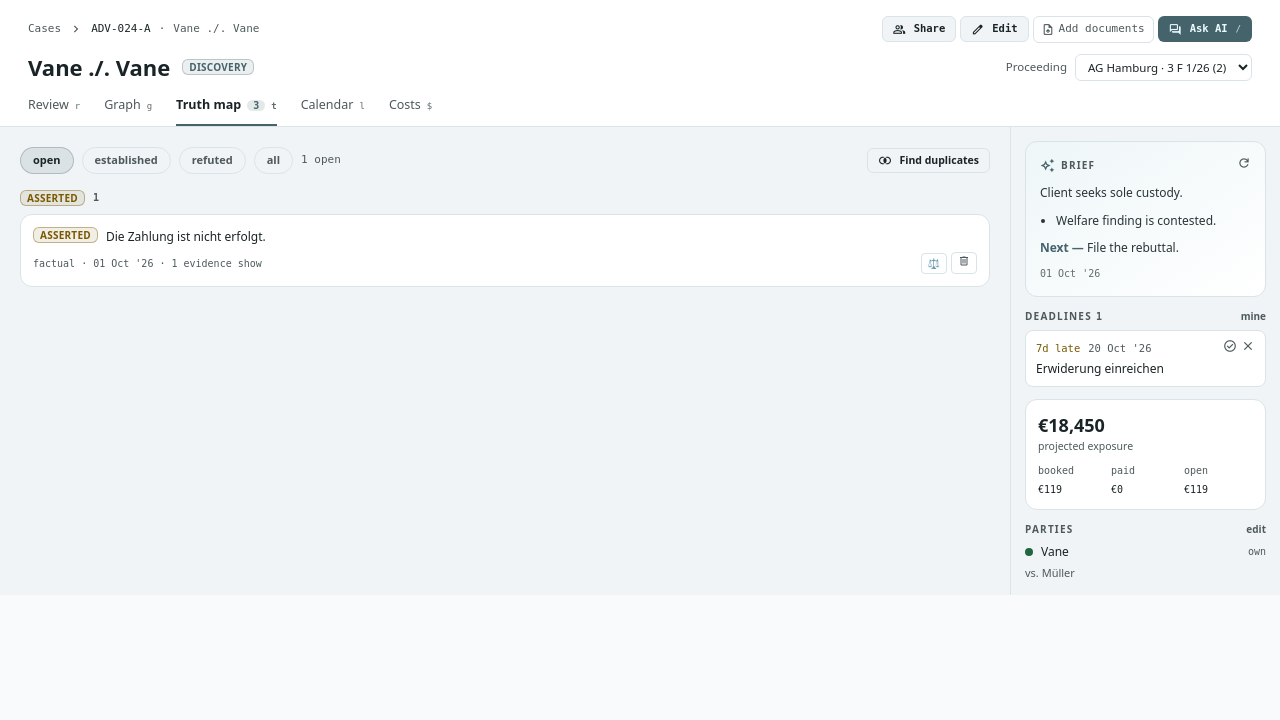
Test case: the Truth Map marks nothing for the user’s own claim
Click the button "show" at {"x": 250, "y": 263}, box [238, 256, 262, 271]
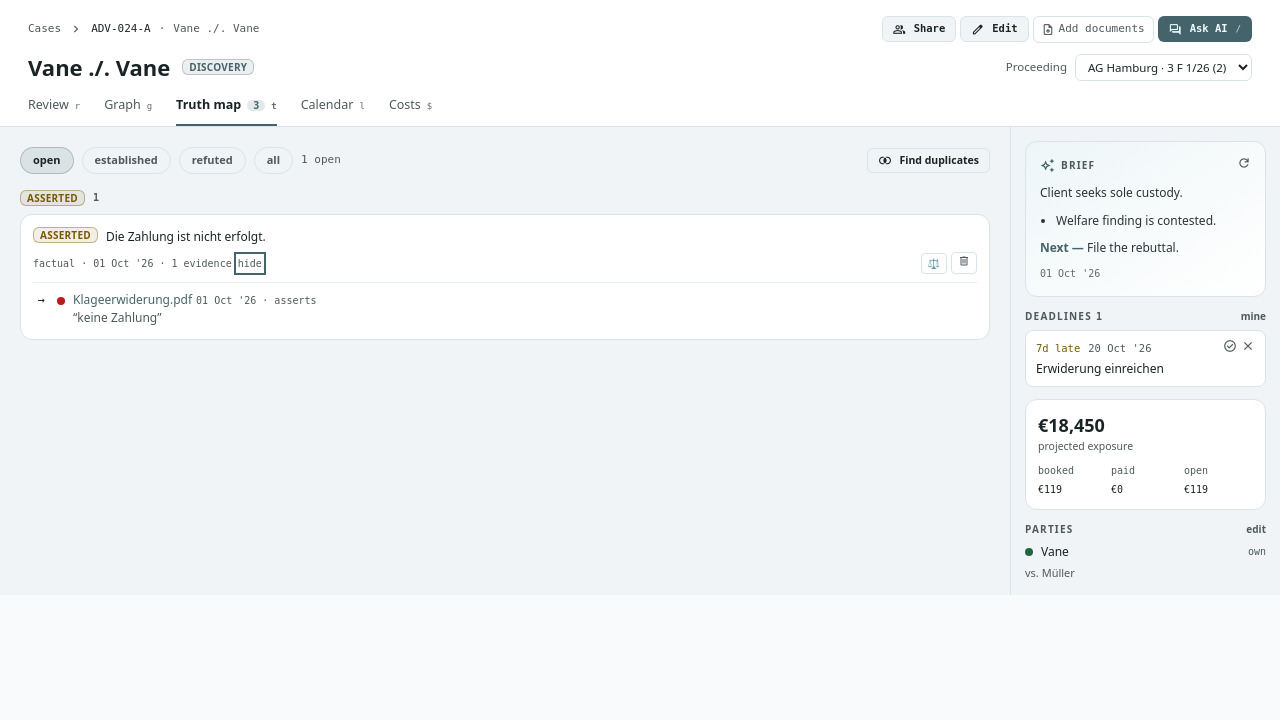
Expected: the text "keine Zahlung" is shown, [77, 309, 157, 326]
